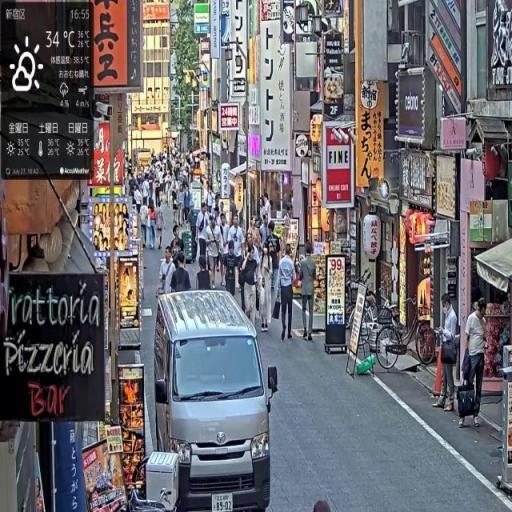person: (460, 297, 490, 427), (432, 293, 460, 411), (276, 243, 300, 342), (298, 243, 319, 342), (206, 210, 223, 291), (197, 200, 212, 272), (159, 246, 177, 295), (172, 253, 193, 292)
